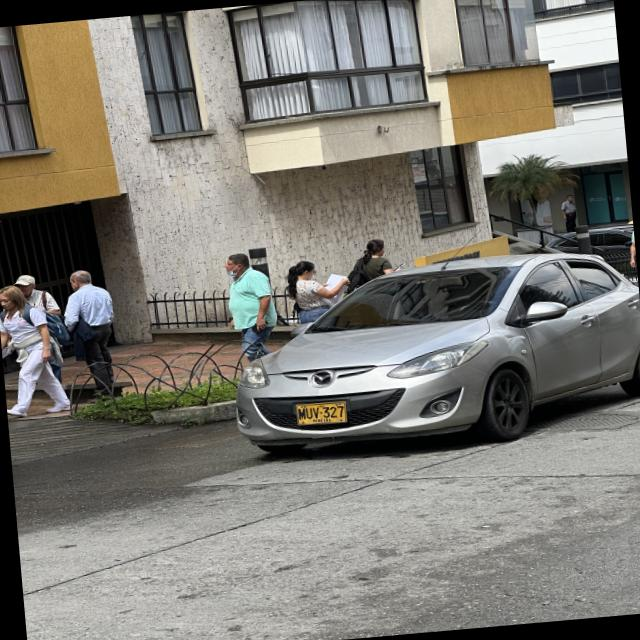number plate: (295, 401, 347, 425)
